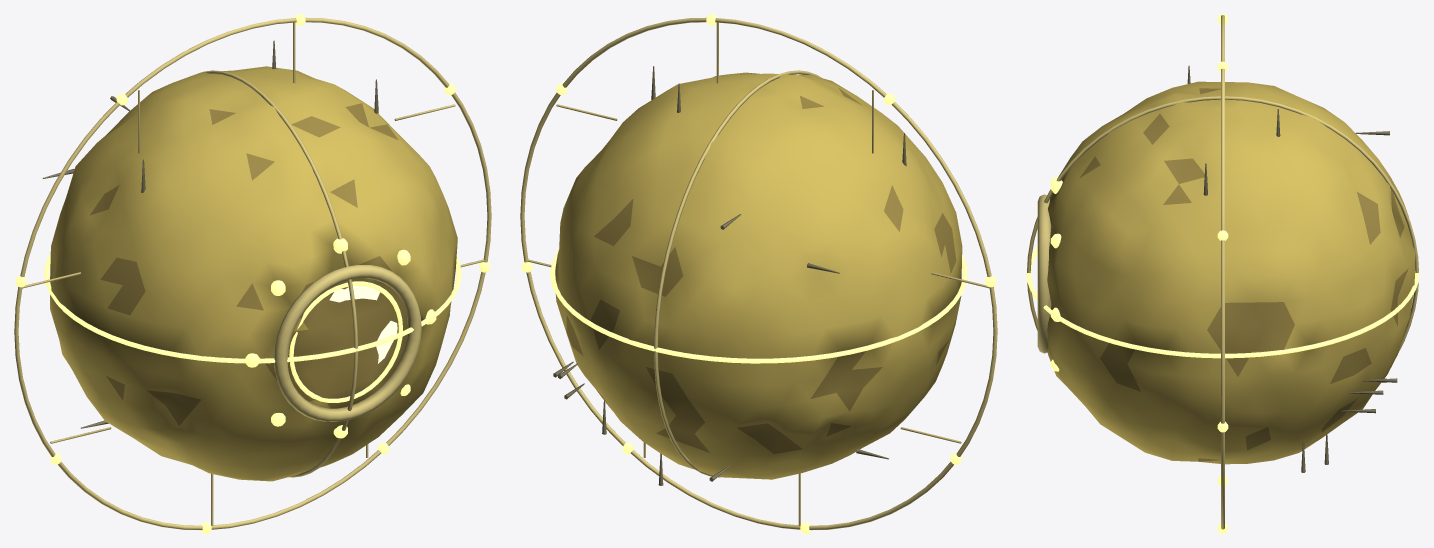
Rendered from moon.glb.
3 renders of one model, left to right at view 1: azimuth 30°, elevation 25°; view 2: azimuth 150°, elevation 25°; view 3: azimuth 270°, elevation 25°, orthographic. The views are drawn at different scales.
Visible parts, largest first — view 1: moon; view 2: moon; view 3: moon.
Boxes of the visible parts, left/top/right/bottom form: moon: left=14, top=14, right=491, bottom=533; moon: left=520, top=14, right=997, bottom=533; moon: left=1026, top=14, right=1419, bottom=533.
Bounding box in the file's own units: 2.7 × 2.7 × 2.05.
